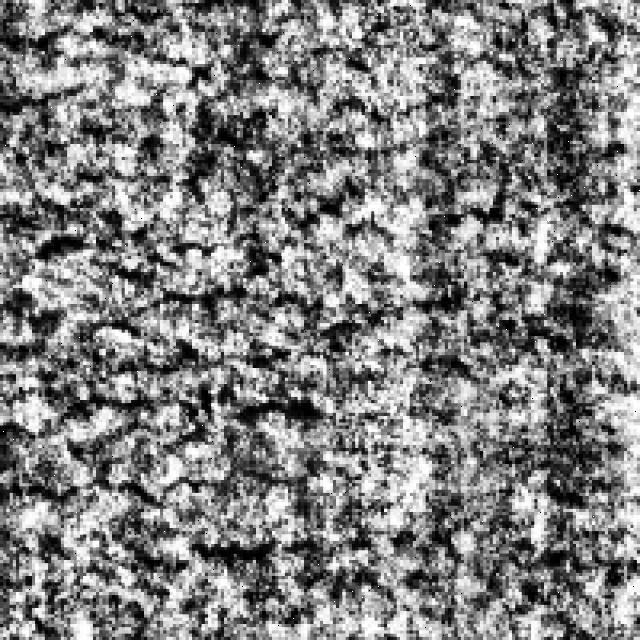Pitted_Surface: (3, 48, 618, 352), (4, 381, 326, 554)
